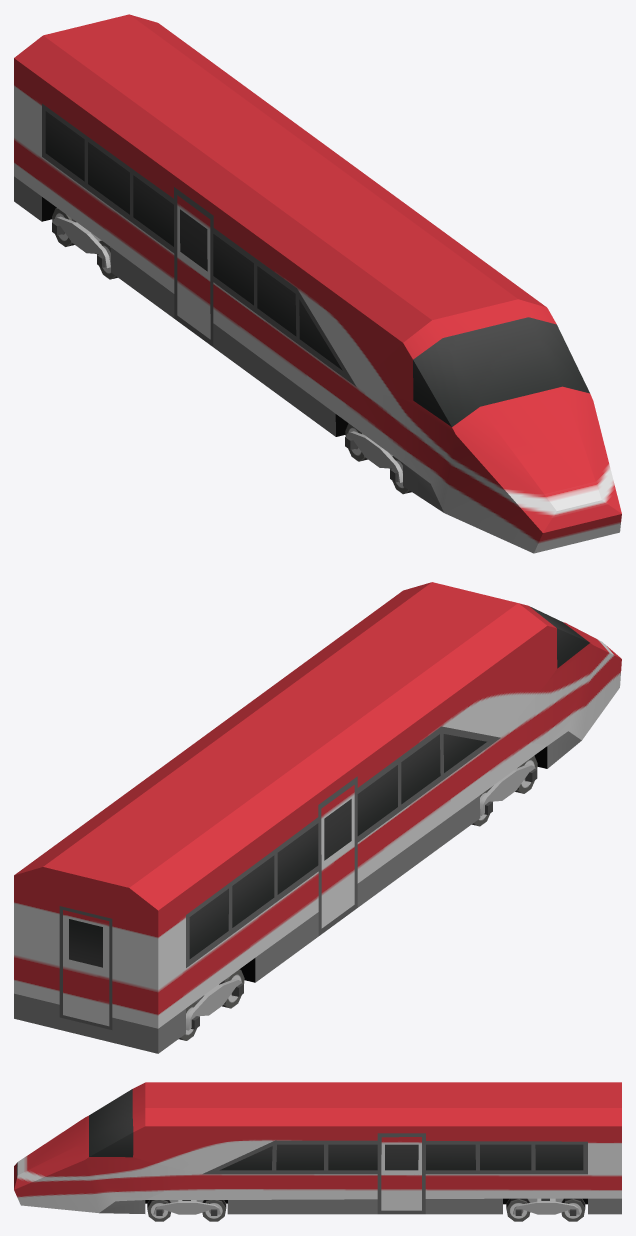
The model's file is TrainB.fbx.
The picture shows the model from 3 angles, top to bottom: view 1: azimuth 30°, elevation 25°; view 2: azimuth 150°, elevation 25°; view 3: azimuth 270°, elevation 25°; orthographic projection. The views are drawn at different scales.
Visible parts, largest first — view 1: TrainB, TrainWheelBR, TrainWheelFR; view 2: TrainB, TrainWheelBR, TrainWheelFR; view 3: TrainB, TrainWheelBL, TrainWheelFL, WheelABL, WheelBBL, WheelAFL, WheelBFL.
Boxes of the visible parts, x1,y1,x2,y2 form: TrainB: [14, 14, 621, 553]; TrainWheelBR: [52, 216, 110, 268]; TrainWheelFR: [345, 431, 402, 482]; TrainB: [14, 582, 621, 1053]; TrainWheelBR: [186, 979, 243, 1030]; TrainWheelFR: [480, 764, 537, 815]; TrainB: [14, 1082, 621, 1214]; TrainWheelBL: [513, 1198, 579, 1215]; TrainWheelFL: [153, 1200, 220, 1215]; WheelABL: [506, 1198, 530, 1221]; WheelBBL: [561, 1198, 585, 1221]; WheelAFL: [147, 1200, 171, 1221]; WheelBFL: [202, 1200, 226, 1221].
Size of the model in its own units: 277 by 321 by 1650.
